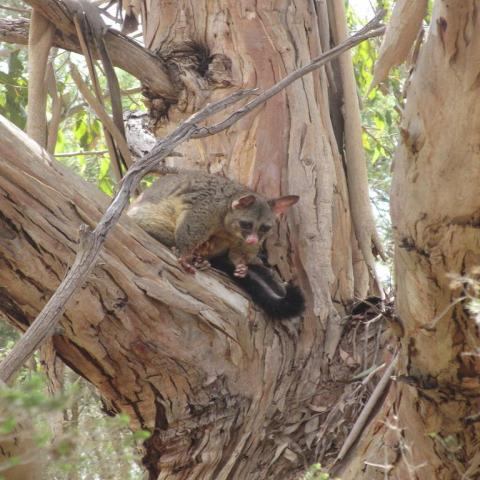small_animal: (125, 169, 308, 316)
